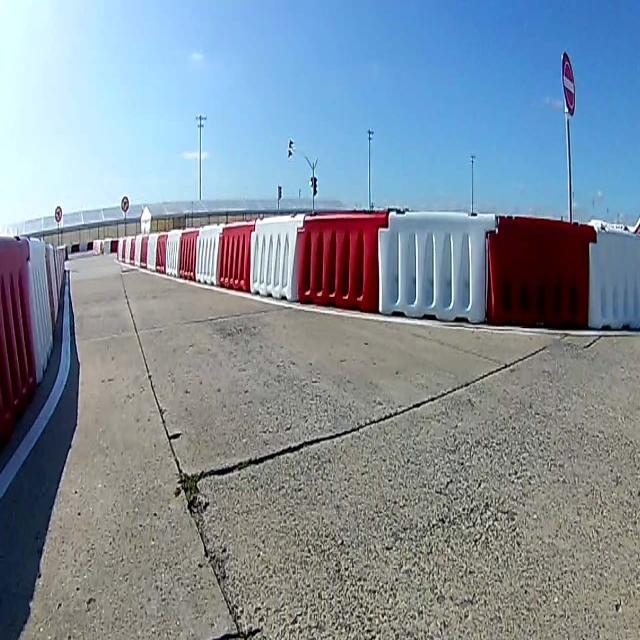girisyok: (558, 45, 580, 120)
